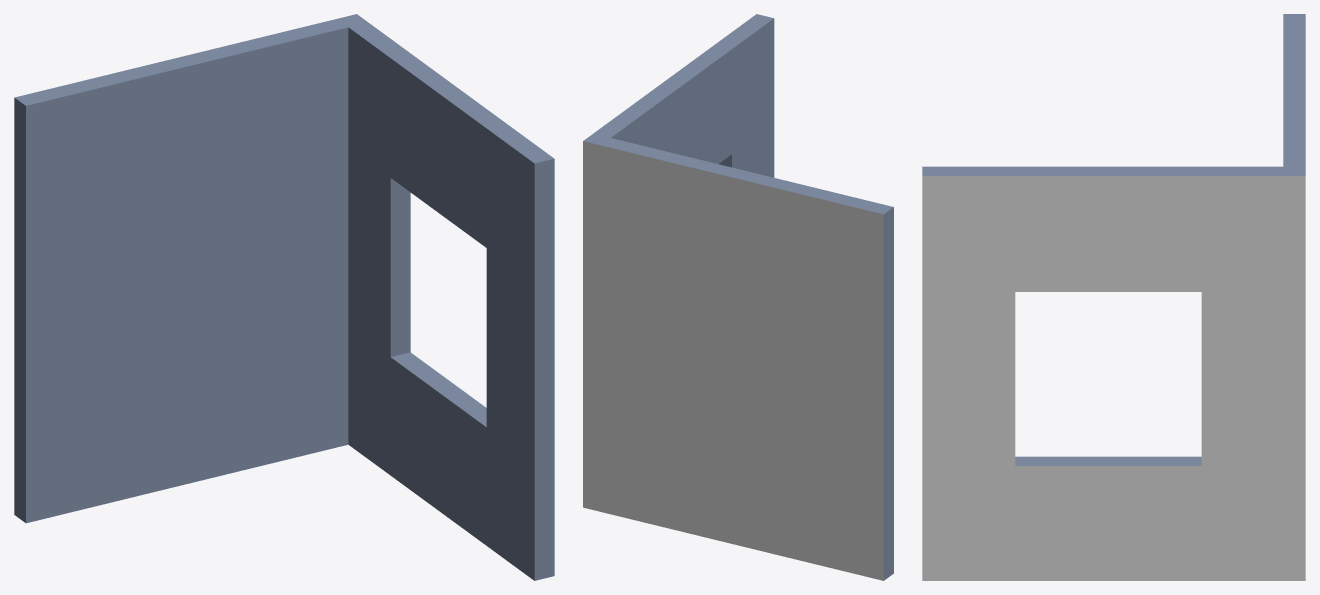
The model's file is Wall1_C3_11.fbx.
The picture shows the model from 3 angles, left to right: view 1: azimuth 30°, elevation 25°; view 2: azimuth 150°, elevation 25°; view 3: azimuth 270°, elevation 25°; orthographic projection. The views are drawn at different scales.
Visible parts, largest first — view 1: Wall1_C3_11; view 2: Wall1_C3_11; view 3: Wall1_C3_11.
Part boxes in pixels (box(x1,y1,x2,y2)): Wall1_C3_11: box(14, 14, 554, 580); Wall1_C3_11: box(583, 14, 893, 580); Wall1_C3_11: box(922, 14, 1305, 580).
Size of the model in its own units: 258 by 300 by 258.
